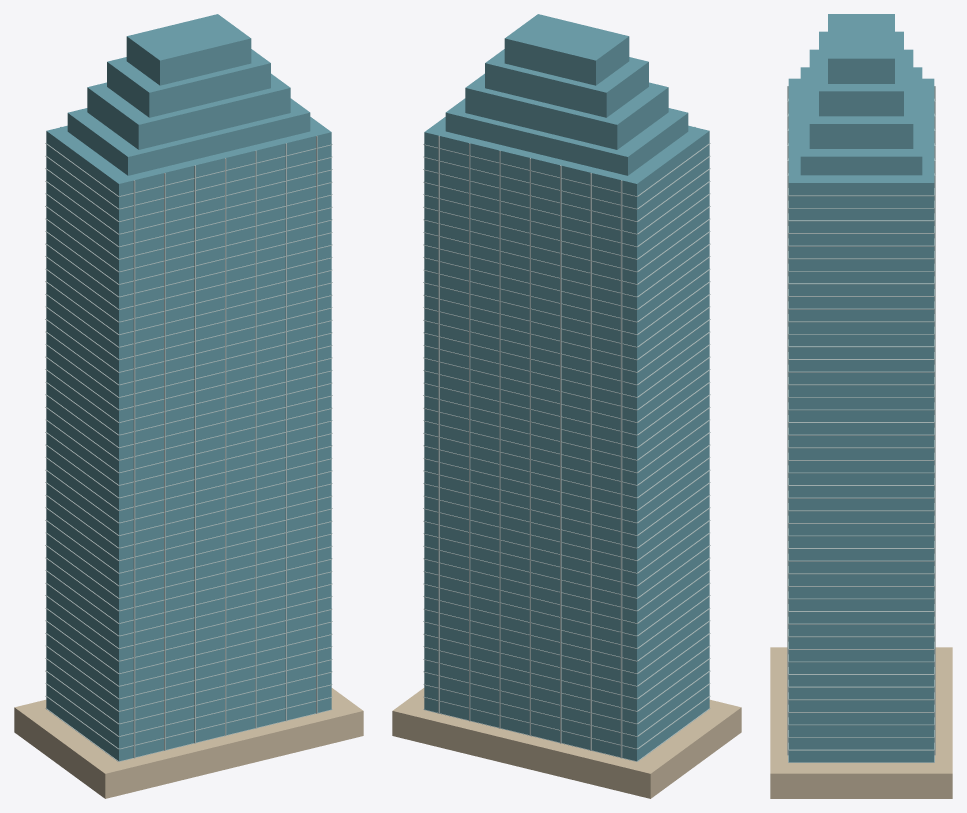
The model's file is bank-communications-pudong.glb.
3 views of the same model, side by side, from view 1: azimuth 30°, elevation 25°; view 2: azimuth 150°, elevation 25°; view 3: azimuth 270°, elevation 25° (orthographic).
Parts seen in each view (by area): view 1: bank-communications-pudong; view 2: bank-communications-pudong; view 3: bank-communications-pudong.
Boxes of the visible parts, x1=… form: bank-communications-pudong: x1=14, y1=14, x2=363, y2=798; bank-communications-pudong: x1=392, y1=14, x2=741, y2=798; bank-communications-pudong: x1=770, y1=14, x2=952, y2=798.
Bounding box in the file's own units: 103 × 265 × 62.63.
